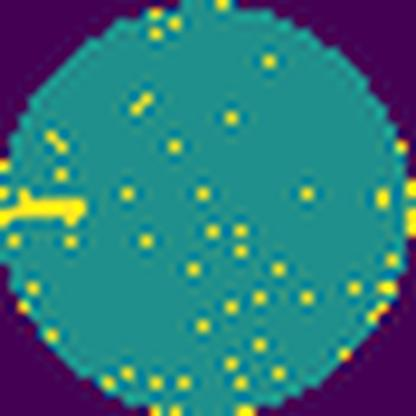Loc: (0, 189, 82, 235)
